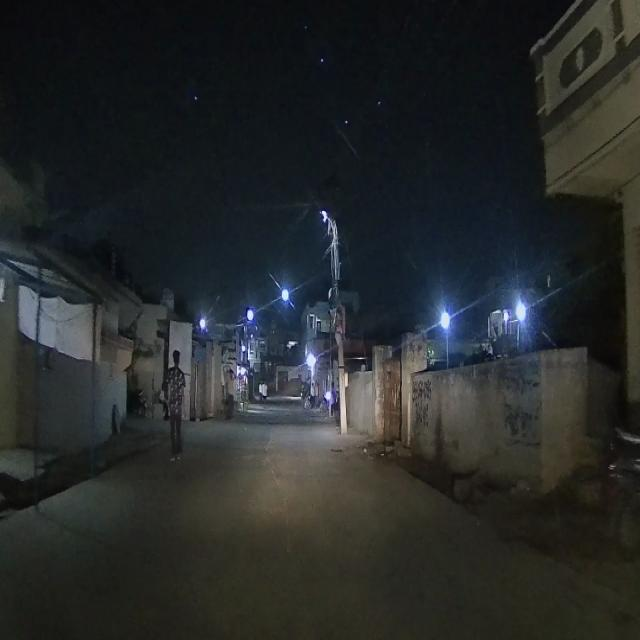person ahead at: (154, 346, 190, 453)
